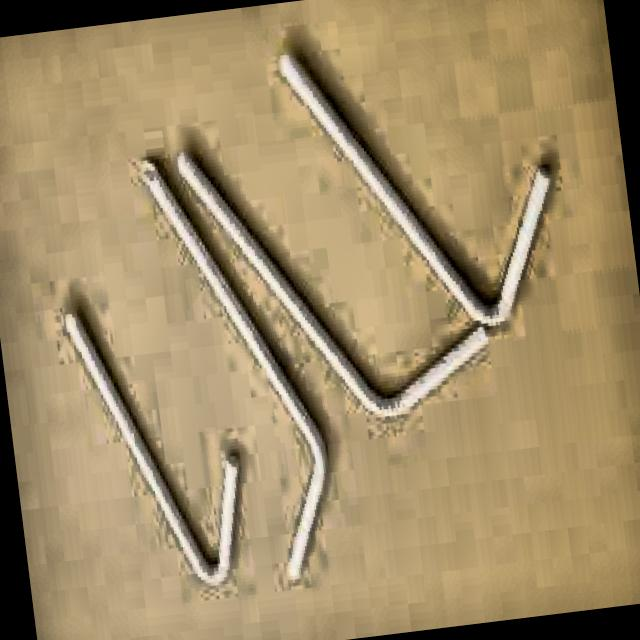plastic straw: (178, 154, 487, 413), (141, 161, 325, 579), (280, 55, 551, 322), (67, 312, 239, 583)
